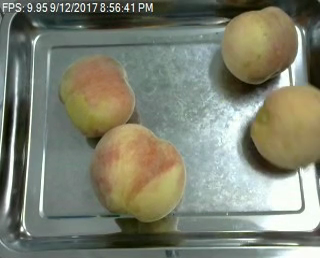Peach: (90, 122, 184, 222), (60, 52, 137, 138), (221, 6, 299, 83), (251, 84, 320, 170)
